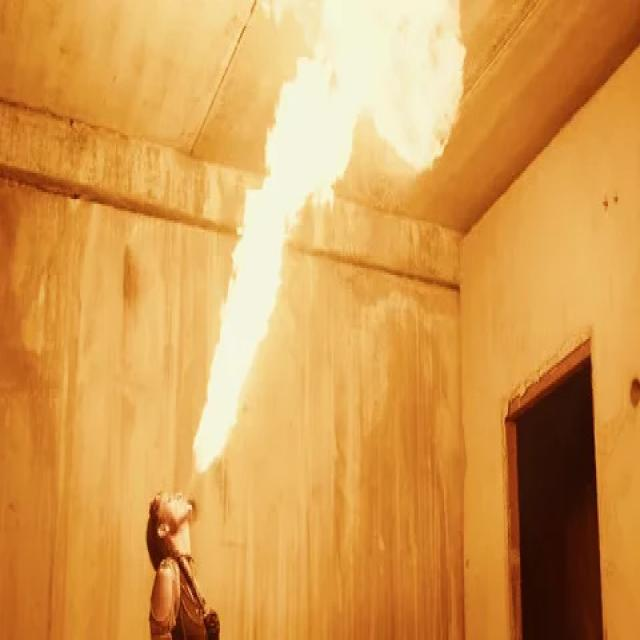fire: (193, 191, 308, 473), (317, 0, 466, 170), (262, 59, 358, 207)
